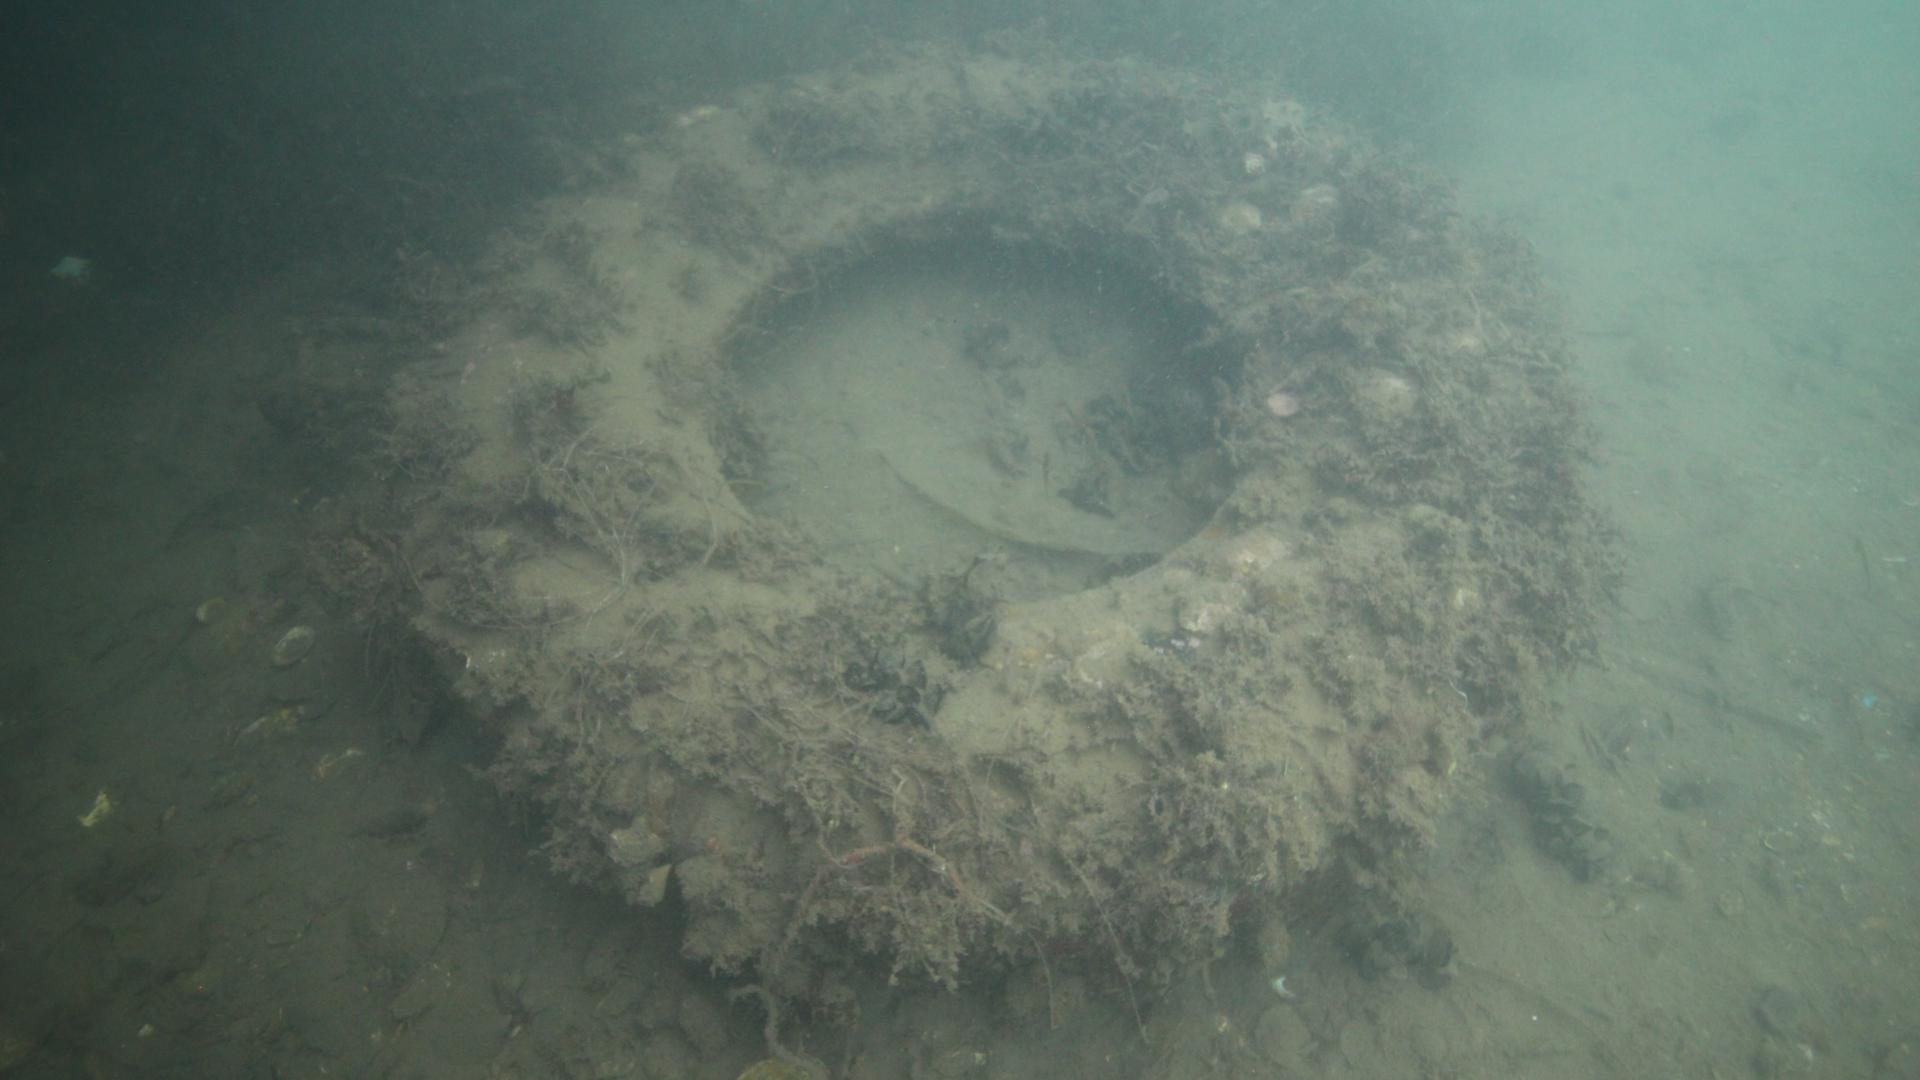tire: (392, 55, 1519, 919)
